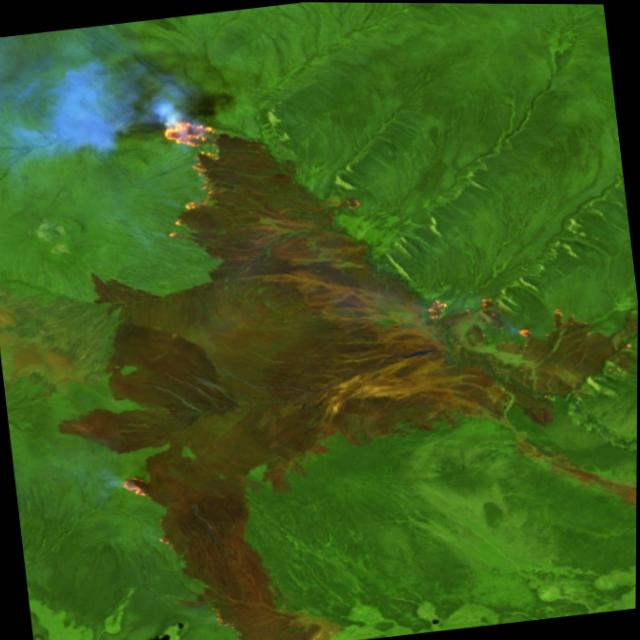fire: (138, 112, 240, 248), (422, 287, 508, 329)
